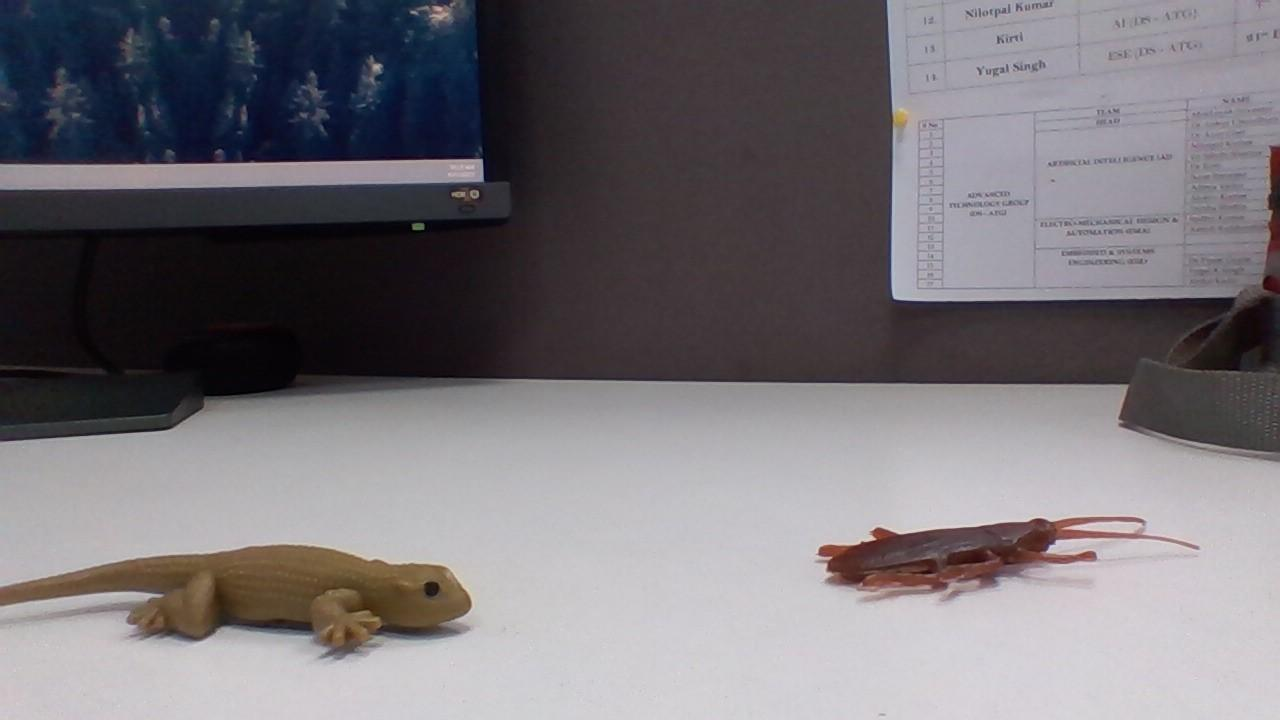cockroach: (804, 507, 1183, 603)
lizard: (5, 535, 475, 666)
